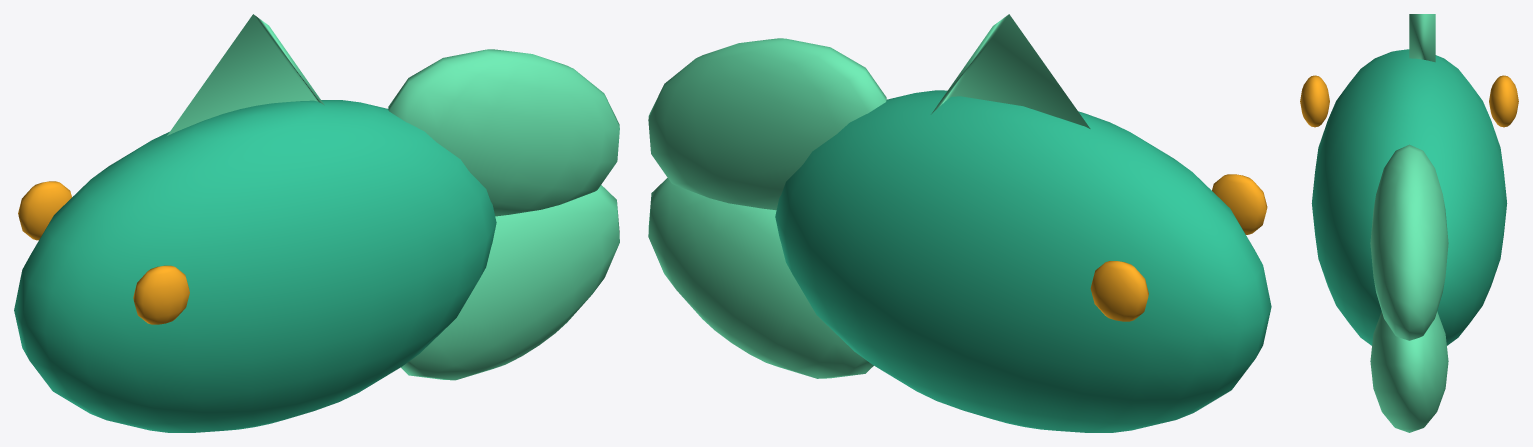
Rendered from jadecarp.glb.
3 views of the same model, side by side, from view 1: azimuth 30°, elevation 25°; view 2: azimuth 150°, elevation 25°; view 3: azimuth 270°, elevation 25° (orthographic). The views are drawn at different scales.
Parts seen in each view (by area): view 1: jadecarp; view 2: jadecarp; view 3: jadecarp.
Part boxes in pixels (x1,y1,x2,y2): jadecarp: (14,14,619,432); jadecarp: (648,14,1271,432); jadecarp: (1300,14,1518,432).
Bounding box in the file's own units: 1 × 0.6339 × 0.3864.
Materials: 1 (1 with a texture image).
